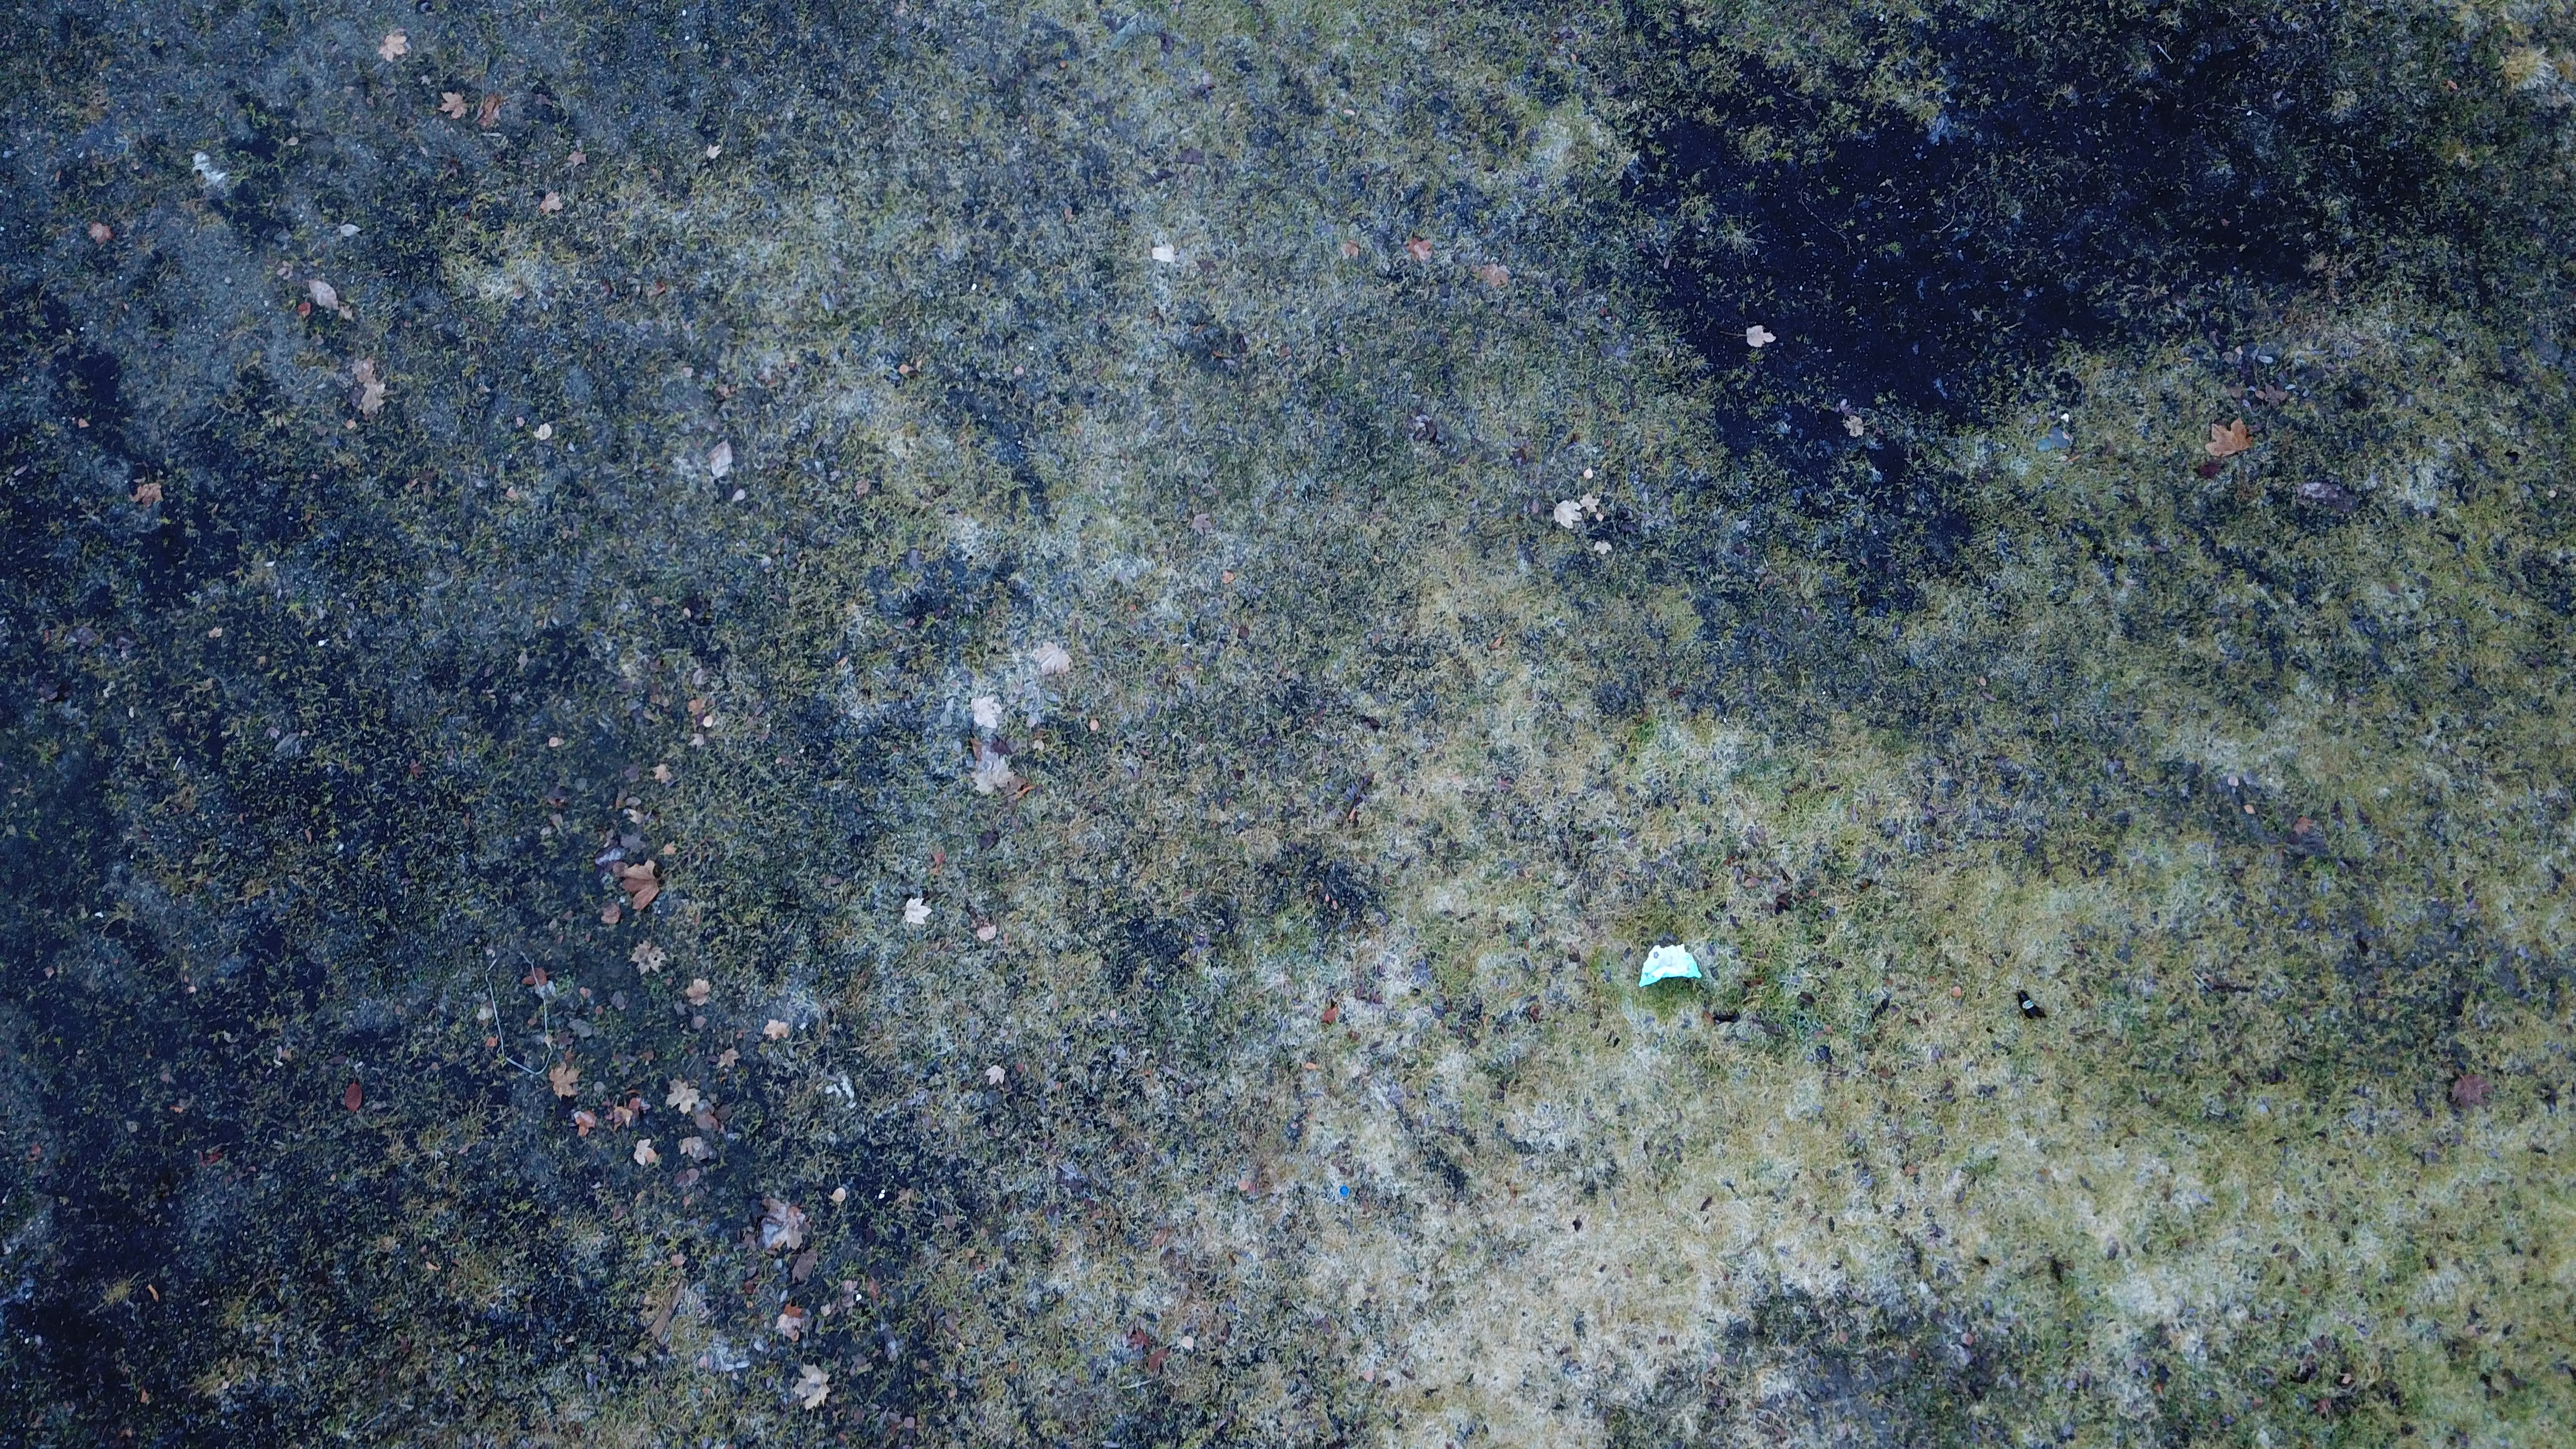Plastic: (1638, 939, 1704, 994)
